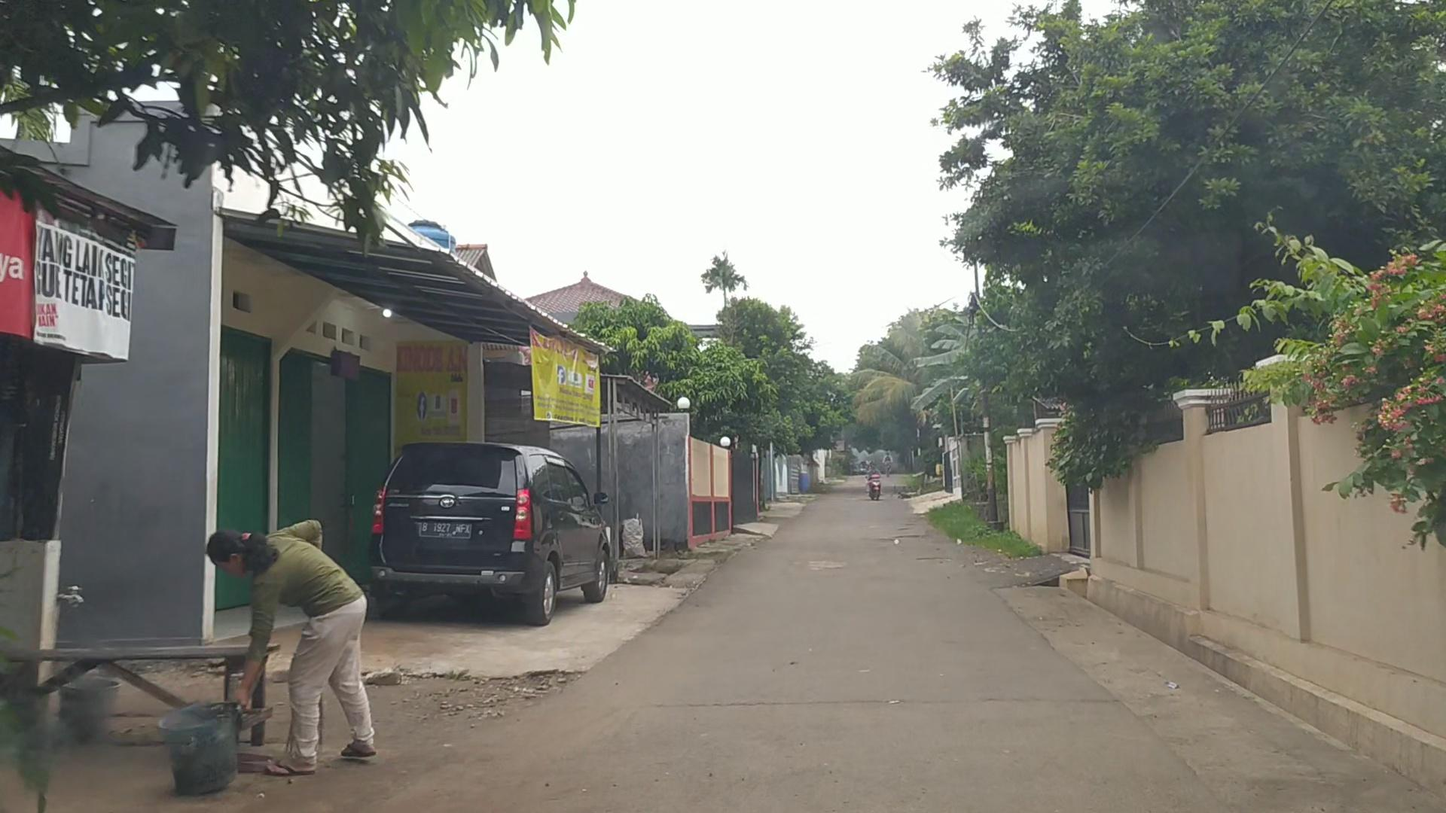pothole: (916, 555, 952, 566), (893, 534, 923, 539)
